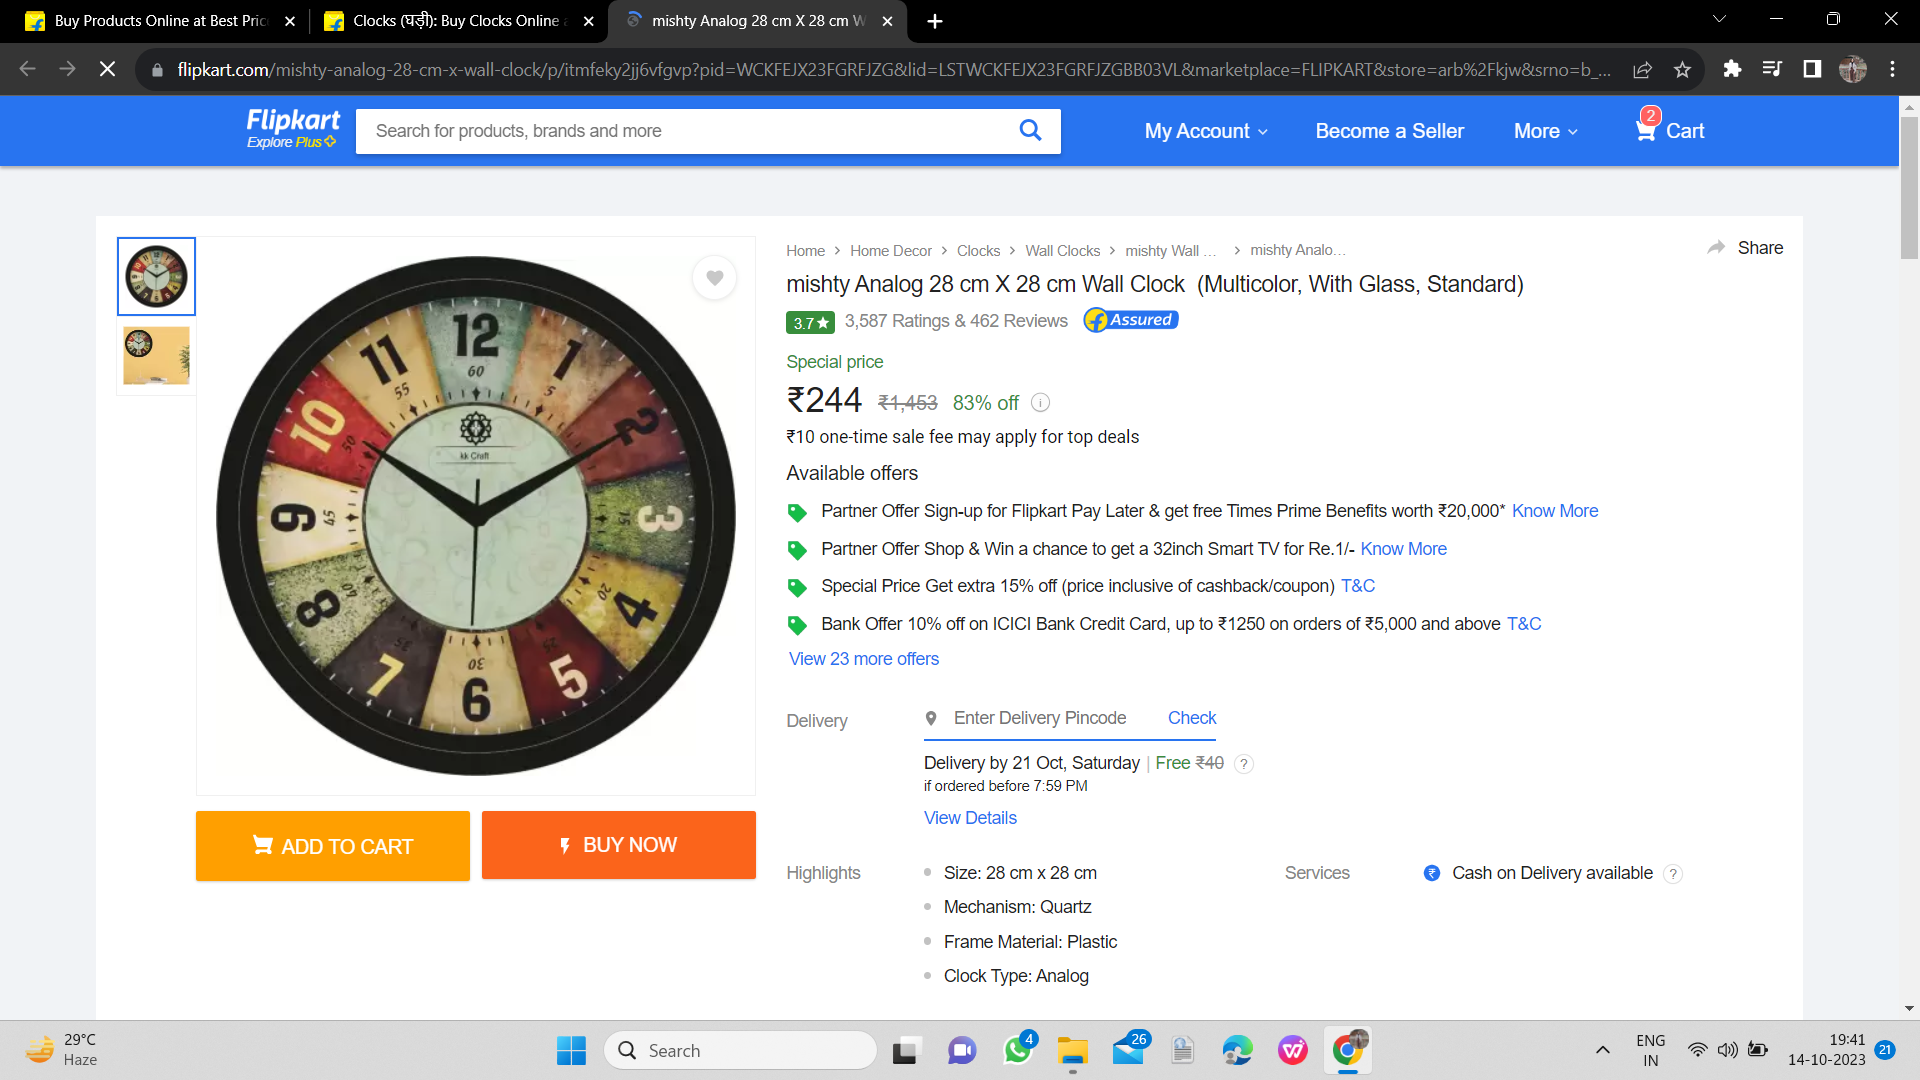Image: (203, 241, 758, 789)
Paragraph: (778, 497, 1625, 676), (183, 800, 762, 890), (782, 851, 1131, 989), (779, 266, 1551, 303), (1126, 111, 1730, 154), (779, 345, 1023, 417), (1278, 856, 1664, 890), (907, 699, 1234, 738), (775, 310, 1203, 338), (779, 421, 1151, 451), (910, 745, 1147, 775), (779, 459, 931, 487), (779, 694, 852, 738)
